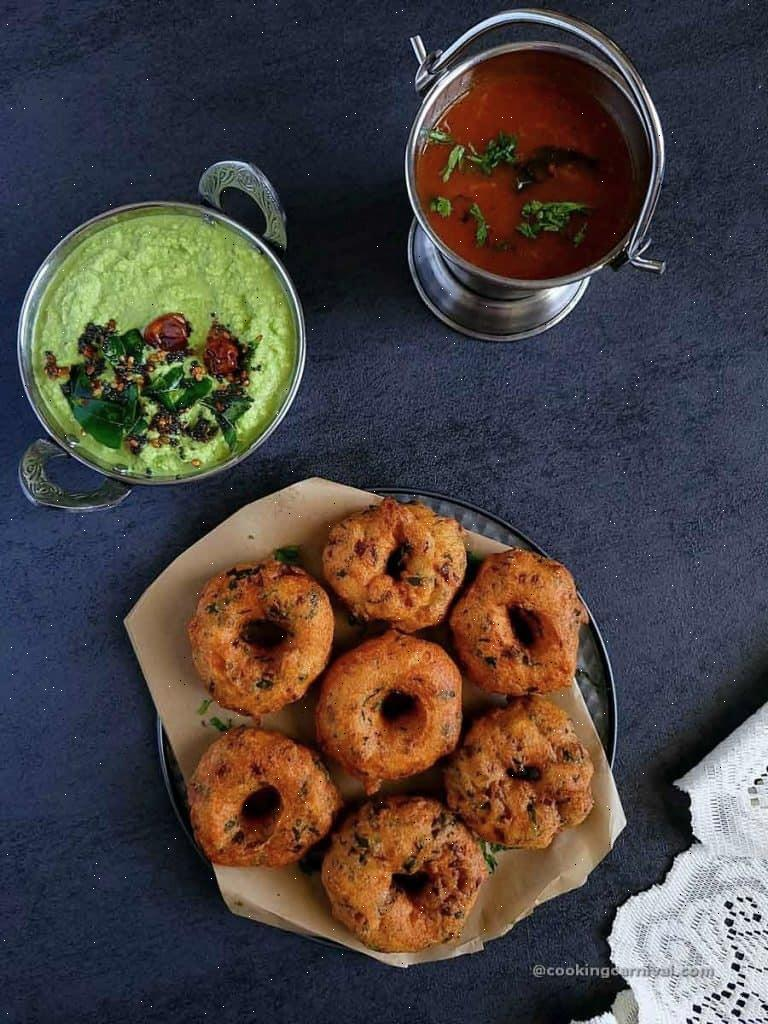medu vada: (182, 521, 604, 951)
